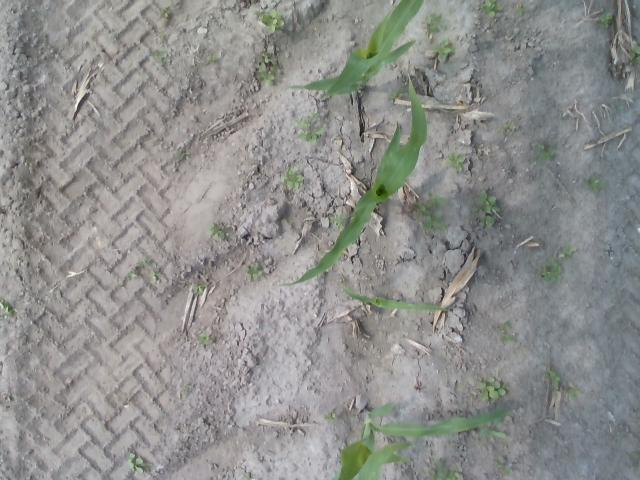Maize: (278, 75, 428, 291), (332, 403, 507, 480), (283, 0, 425, 92), (343, 288, 447, 312)
Weeds: (412, 194, 446, 230), (475, 190, 501, 230), (478, 376, 506, 402), (294, 117, 323, 142), (258, 53, 274, 85), (432, 39, 454, 62), (542, 260, 562, 281), (282, 171, 304, 190), (423, 13, 442, 35), (263, 10, 281, 32), (480, 426, 504, 442), (480, 0, 502, 17), (128, 453, 144, 473), (445, 154, 466, 169), (500, 321, 514, 343), (429, 461, 446, 479), (244, 265, 262, 280), (538, 145, 554, 160), (210, 223, 224, 239), (190, 281, 207, 294), (0, 300, 13, 316), (151, 263, 161, 283), (601, 13, 613, 29), (560, 244, 576, 256), (549, 372, 559, 389), (324, 410, 336, 424), (448, 469, 463, 480), (630, 45, 640, 60), (582, 180, 598, 189), (162, 6, 171, 19), (138, 258, 152, 266), (566, 386, 578, 394), (198, 336, 208, 345), (206, 55, 218, 62), (504, 124, 514, 132), (178, 150, 185, 161), (518, 4, 524, 16), (131, 267, 139, 276), (158, 54, 168, 61)
